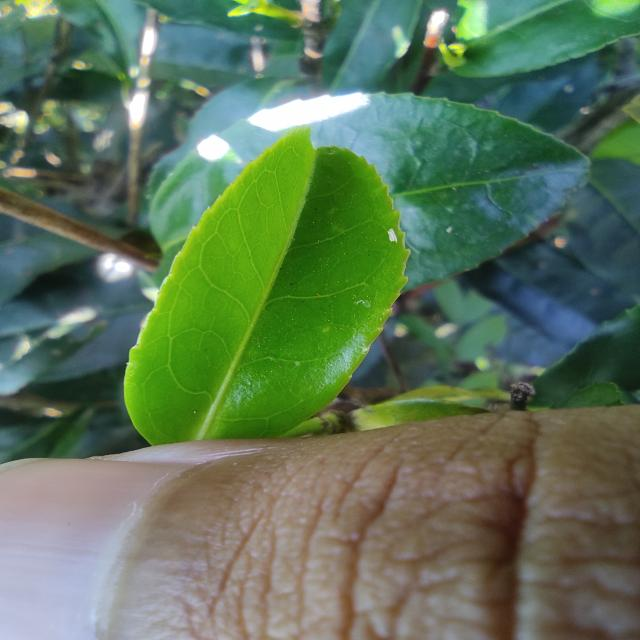Category C(4-7 days): (109, 103, 424, 450)
